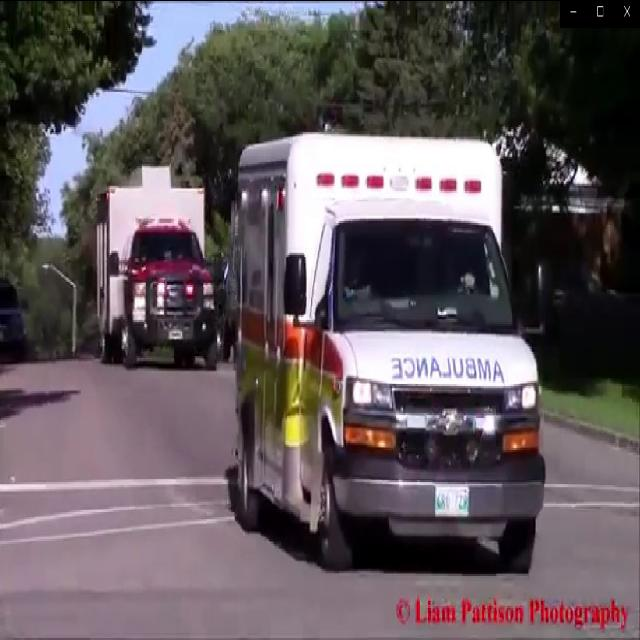emergency: (234, 143, 546, 572), (95, 178, 219, 364)
